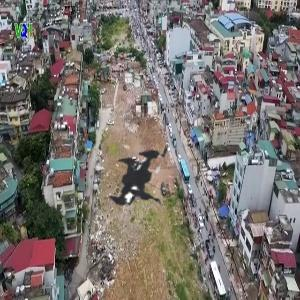drone: (24, 76, 246, 298)
